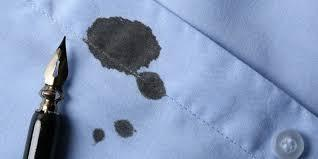ink: (85, 17, 159, 71), (137, 73, 165, 100), (115, 120, 135, 137), (92, 128, 104, 142)
